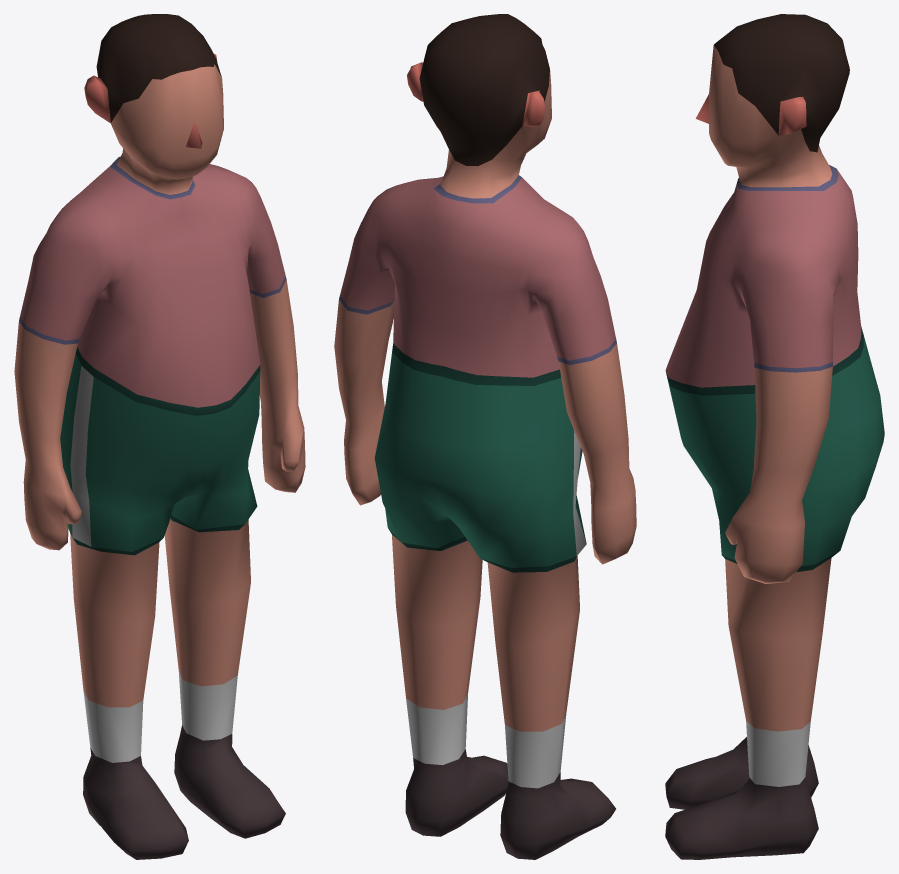
The model's file is CHAR_PlaneLover.fbx.
The picture shows the model from 3 angles, left to right: view 1: azimuth 30°, elevation 25°; view 2: azimuth 150°, elevation 25°; view 3: azimuth 270°, elevation 25°; orthographic projection. The views are drawn at different scales.
Visible parts, largest first — view 1: Character_PlaneLover; view 2: Character_PlaneLover; view 3: Character_PlaneLover.
Part boxes in pixels (x1,y1,x2,y2): Character_PlaneLover: (14,14,305,859); Character_PlaneLover: (334,14,636,859); Character_PlaneLover: (665,14,884,859).
Bounding box in the file's own units: 0.6525 × 1.8 × 0.446.
